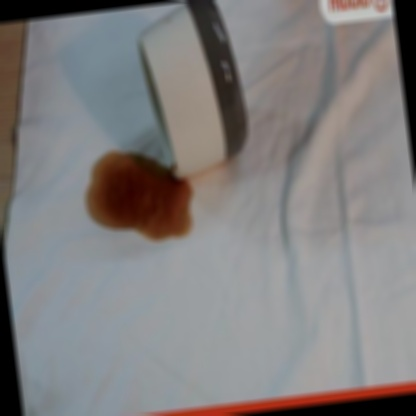coffee: (110, 159, 171, 226)
